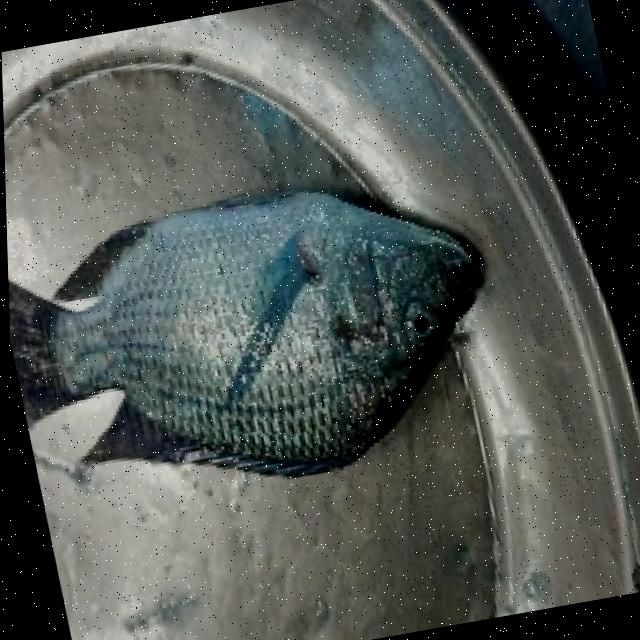Fresh: (2, 97, 533, 527)
